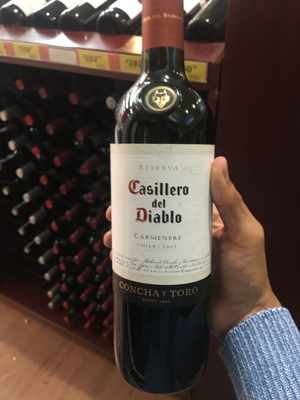casillero del diablo carmenere: (89, 4, 235, 365)
